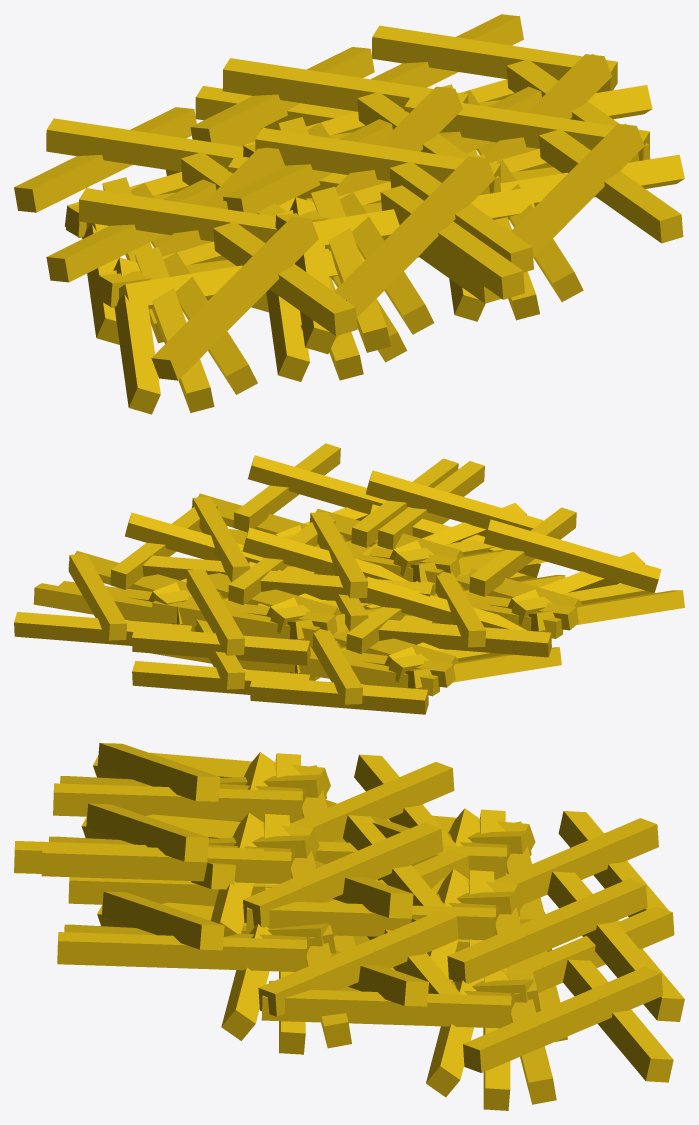
File: friespile.dae
3 views of the same model, one above another, from view 1: azimuth 30°, elevation 25°; view 2: azimuth 150°, elevation 25°; view 3: azimuth 270°, elevation 25° (orthographic). The views are drawn at different scales.
Parts seen in each view (by area): view 1: Cube.026, Cube.006, Cube.051, Cube.011, Cube.021, Cube.031, Cube.001, Cube.046, Cube.049, Cube.029, Cube.041, Cube.034 (+40 smaller); view 2: Cube.026, Cube.034, Cube.014, Cube.006, Cube.024, Cube.046, Cube.074, Cube.054, Cube.016, Cube.036, Cube.028, Cube.056 (+45 smaller); view 3: Cube.049, Cube.051, Cube.011, Cube.009, Cube.059, Cube.029, Cube.041, Cube.001, Cube.019, Cube.031, Cube.021, Cube.054 (+46 smaller).
Boxes of the visible parts, left/top/right/bottom form: Cube.026: left=151, top=216, right=318, bottom=380; Cube.006: left=334, top=156, right=495, bottom=317; Cube.051: left=372, top=25, right=617, bottom=92; Cube.011: left=222, top=58, right=468, bottom=111; Cube.021: left=78, top=188, right=277, bottom=242; Cube.031: left=46, top=118, right=243, bottom=171; Cube.001: left=255, top=128, right=500, bottom=193; Cube.046: left=511, top=124, right=644, bottom=257; Cube.049: left=539, top=129, right=683, bottom=243; Cube.029: left=213, top=222, right=357, bottom=335; Cube.041: left=404, top=95, right=649, bottom=160; Cube.034: left=14, top=107, right=196, bottom=212; Cube.026: left=484, top=519, right=661, bottom=592; Cube.034: left=250, top=676, right=428, bottom=714; Cube.014: left=132, top=627, right=310, bottom=665; Cube.006: left=365, top=470, right=543, bottom=530; Cube.024: left=378, top=619, right=551, bottom=657; Cube.046: left=248, top=455, right=386, bottom=514; Cube.074: left=132, top=661, right=310, bottom=694; Cube.054: left=14, top=612, right=192, bottom=645; Cube.016: left=242, top=527, right=408, bottom=581; Cube.036: left=360, top=576, right=526, bottom=630; Cube.028: left=528, top=590, right=684, bottom=631; Cube.056: left=125, top=512, right=263, bottom=563; Cube.049: left=57, top=932, right=306, bottom=971; Cube.051: left=463, top=966, right=662, bottom=1072; Cube.011: left=447, top=878, right=647, bottom=983; Cube.009: left=41, top=844, right=291, bottom=883; Cube.059: left=261, top=990, right=511, bottom=1028; Cube.029: left=53, top=783, right=302, bottom=823; Cube.041: left=258, top=910, right=458, bottom=1016; Cube.001: left=243, top=822, right=442, bottom=927; Cube.019: left=246, top=902, right=495, bottom=940; Cube.031: left=494, top=818, right=658, bottom=904; Cube.021: left=290, top=762, right=454, bottom=841; Cube.054: left=563, top=959, right=673, bottom=1082.
Bounding box in the file's own units: 0.3365 × 0.2836 × 0.0796.
